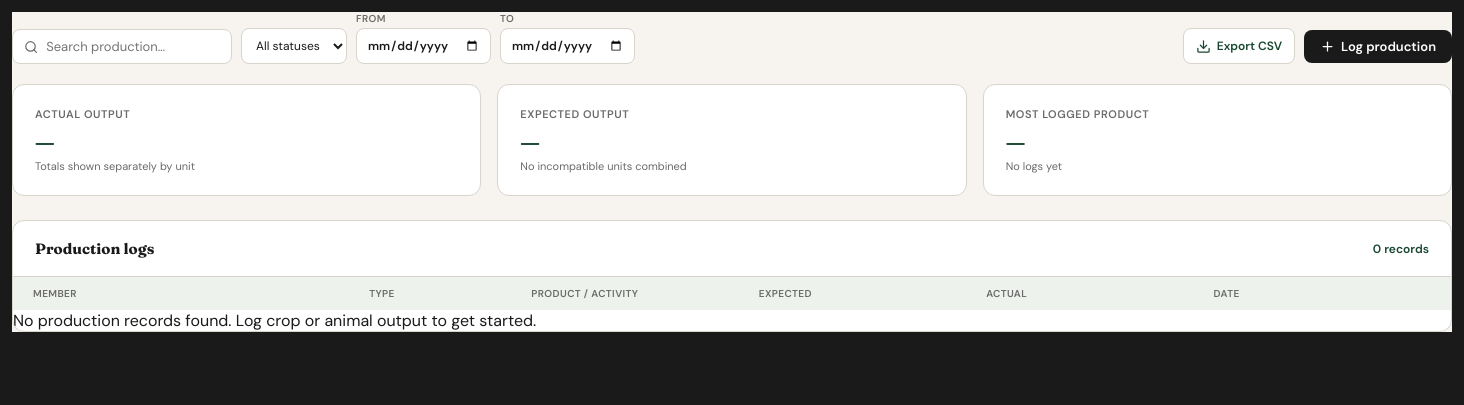
it: dashboard report export errors › announces Production export failures
Click the button "Export CSV": coordinates (1239, 46) [1183,28,1295,64]
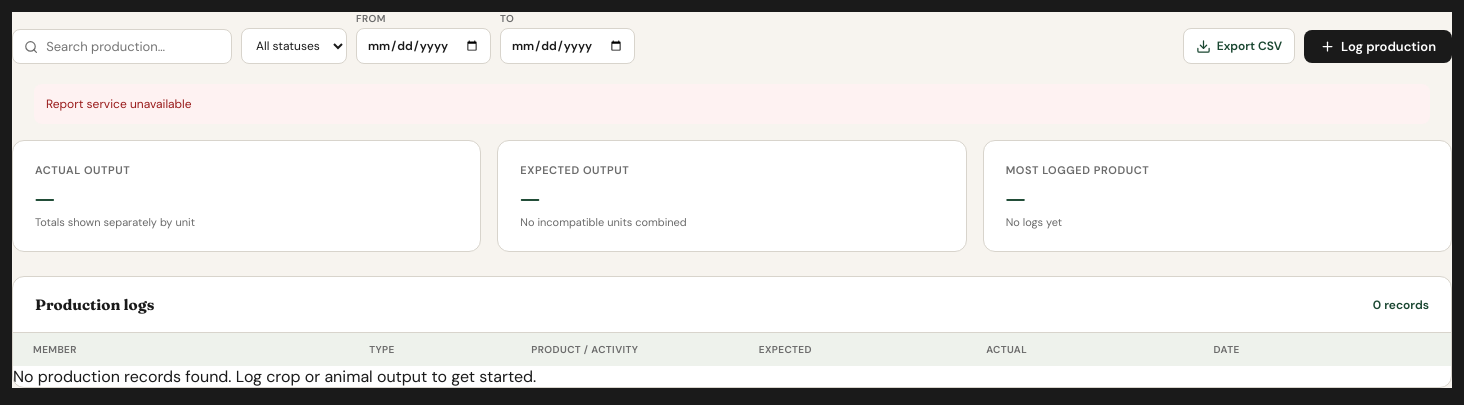
Check: the message reads "Report service unavailable", box [46,96,192,112]
